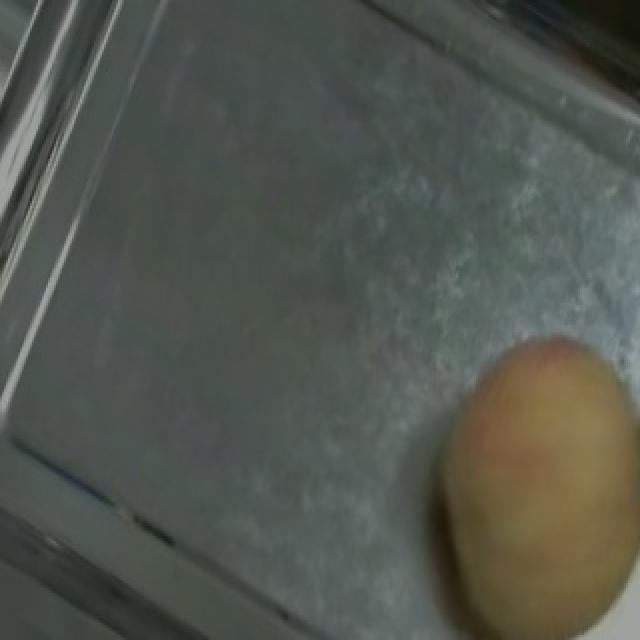Fruit: (392, 312, 640, 638)
